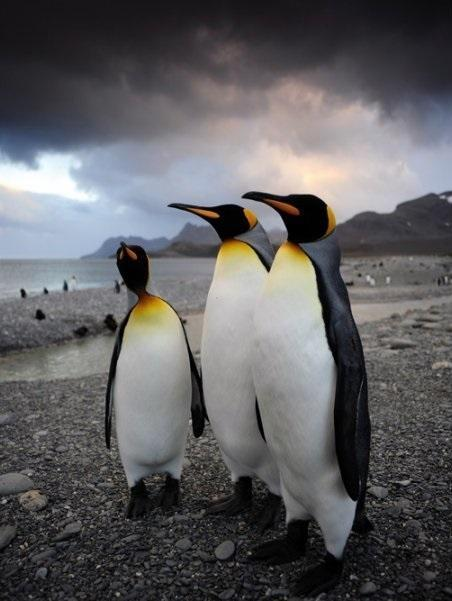Penguin: (243, 191, 372, 595), (170, 203, 282, 532), (106, 244, 204, 516)
